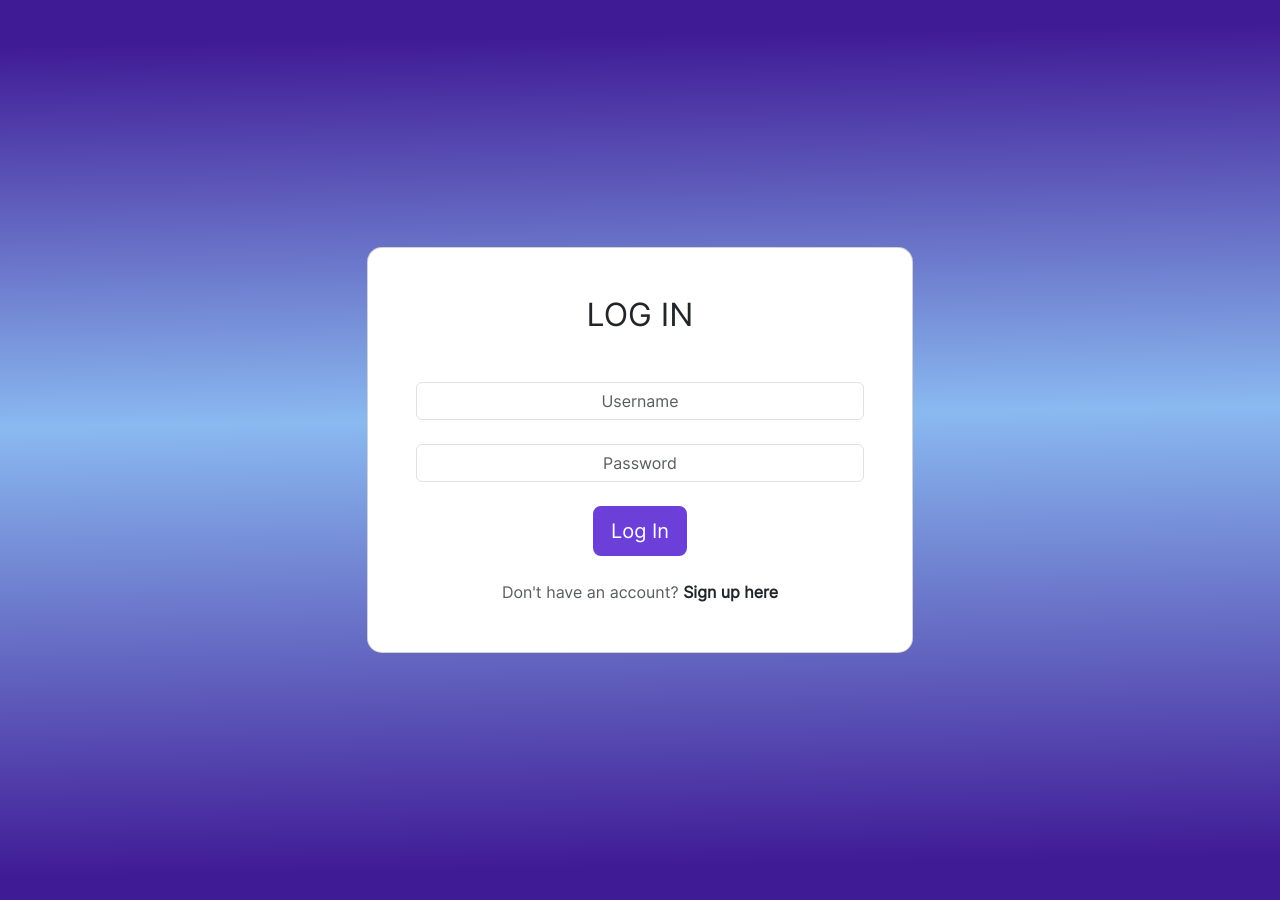
Test: Login with incorrect credentials › should display an error message
In the field with id "userName": (640, 401) [416,382,864,420], type "Kenny"
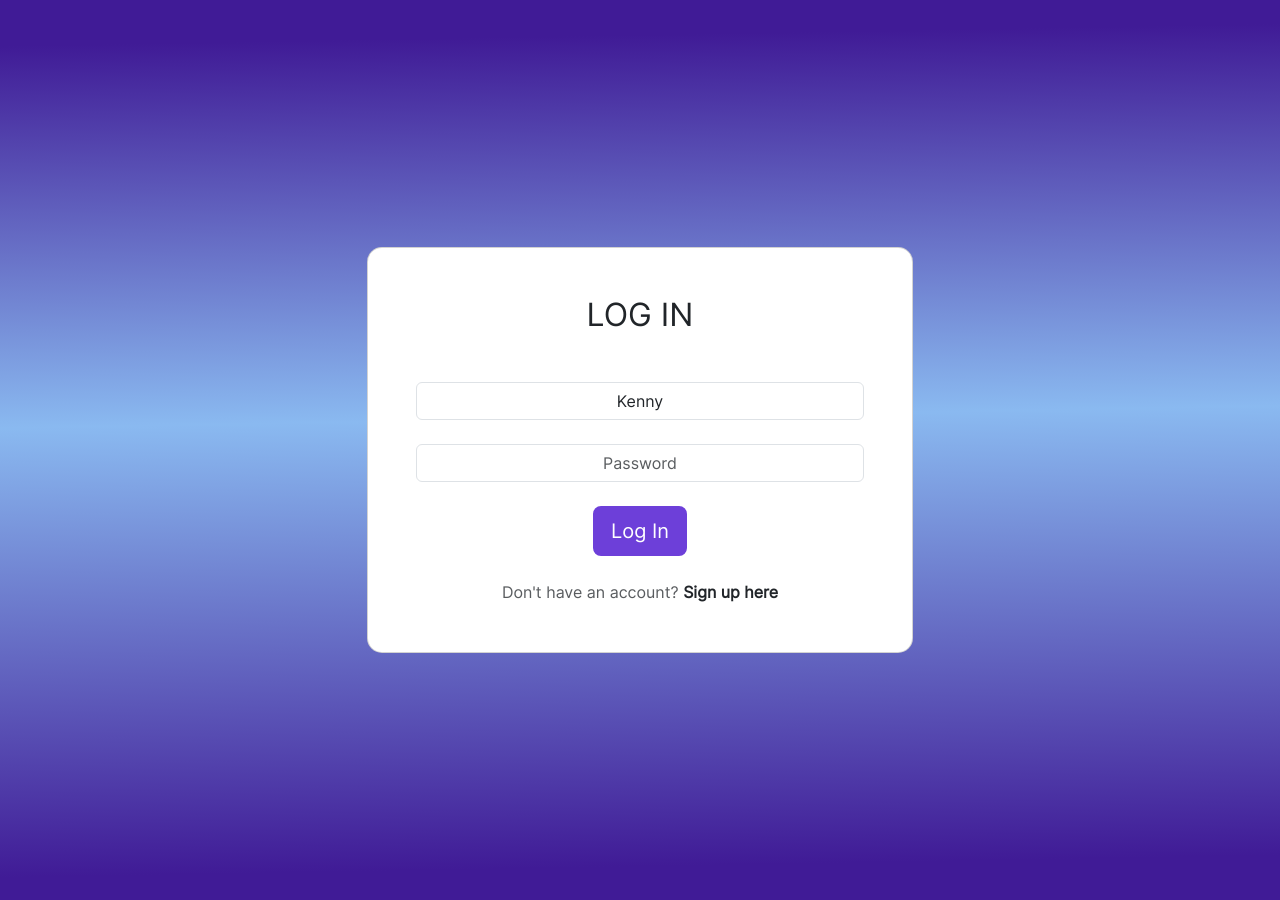
In the password field with placeholder "Password": (640, 463) [416,444,864,482], type "f@k3P@ssw0rd"
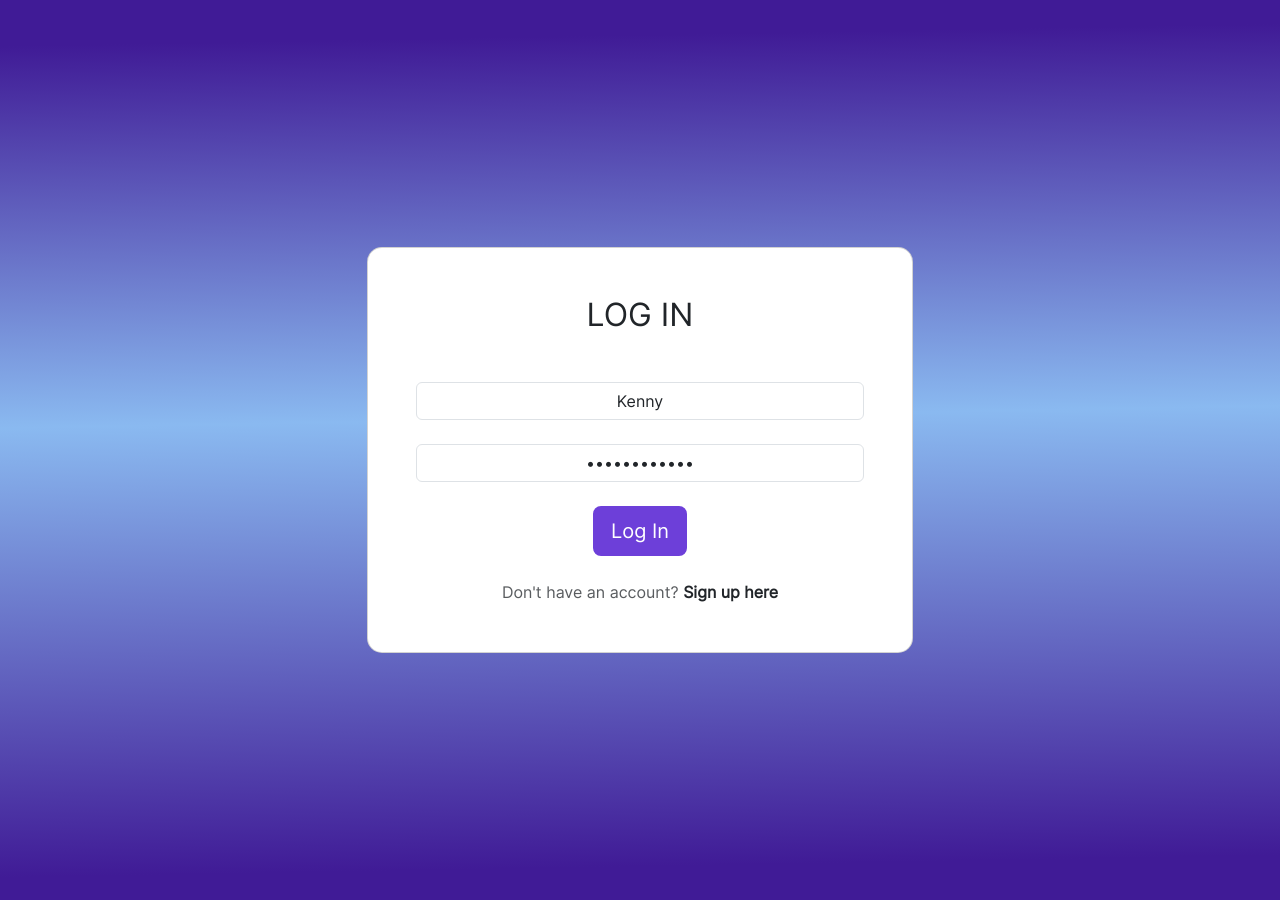
Click the button with id "loginButton": (640, 531) [593,506,687,556]
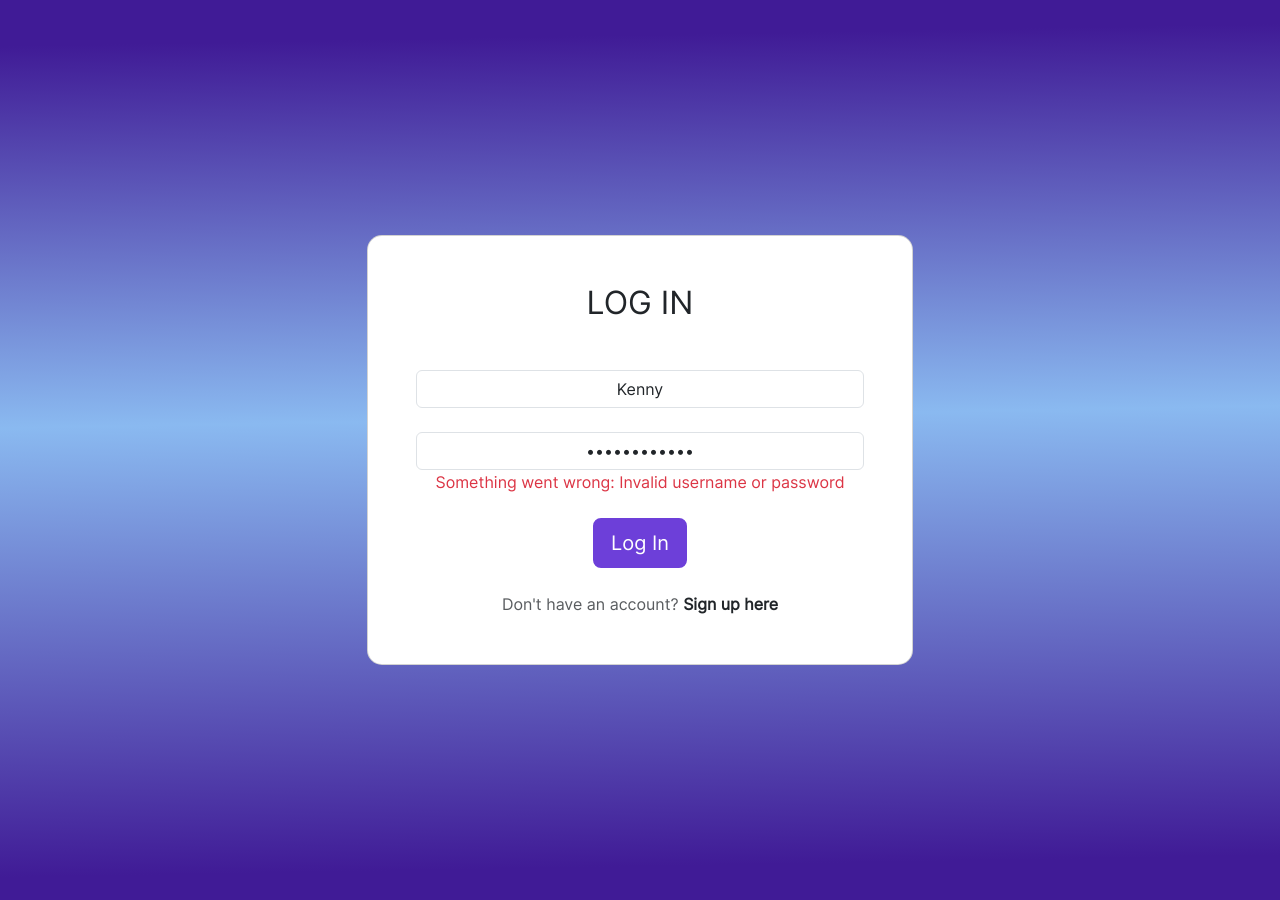
Result: the text "Something went wrong: Invalid username or password" is shown at [416,470,864,494]
